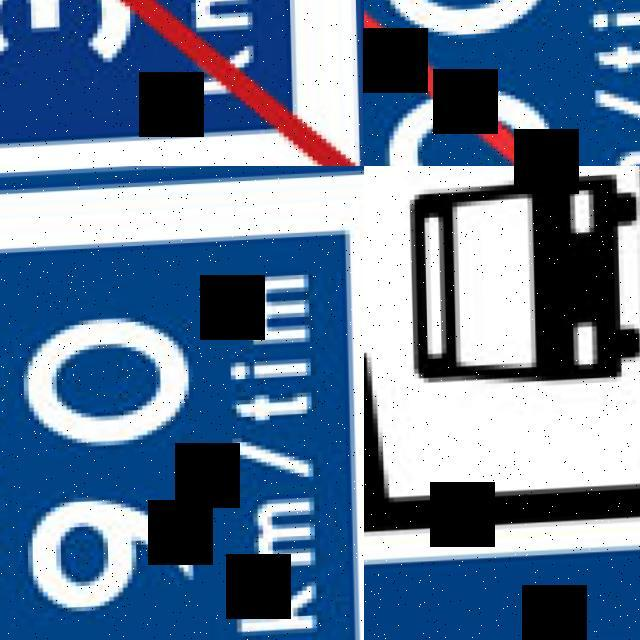103: (0, 0, 364, 166), (364, 0, 640, 166)
Bus stop: (364, 166, 640, 640)
speed limit-90: (0, 166, 364, 640)
